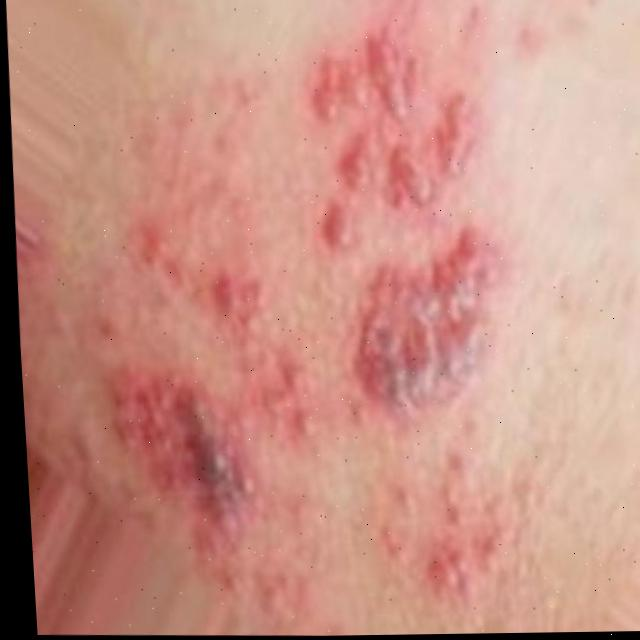Shingles: (93, 0, 551, 595)
